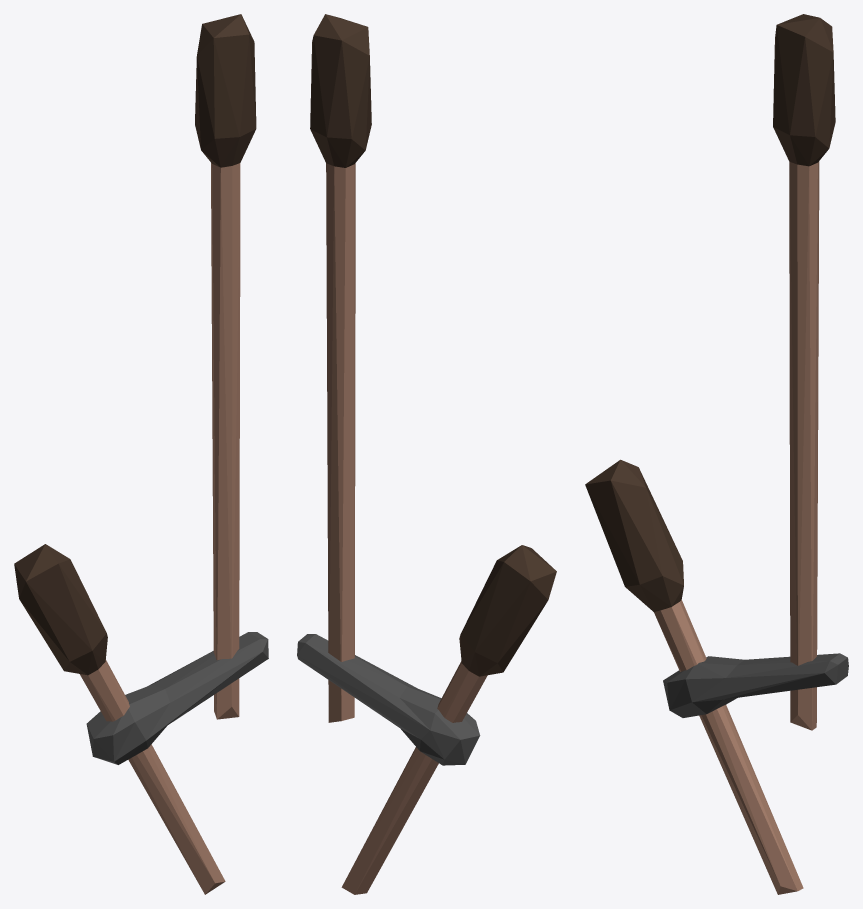
Rendered from Torches.fbx.
The picture shows the model from 3 angles, left to right: view 1: azimuth 30°, elevation 25°; view 2: azimuth 150°, elevation 25°; view 3: azimuth 330°, elevation 25°; orthographic projection.
Visible parts, largest first — view 1: Torch_long, Torch_angled; view 2: Torch_long, Torch_angled; view 3: Torch_long, Torch_angled.
Boxes of the visible parts, left/top/right/bottom form: Torch_long: left=195, top=14, right=256, bottom=719; Torch_angled: left=14, top=544, right=268, bottom=894; Torch_long: left=310, top=14, right=371, bottom=722; Torch_angled: left=297, top=545, right=556, bottom=894; Torch_long: left=773, top=14, right=835, bottom=730; Torch_angled: left=585, top=459, right=848, bottom=894.
Size of the model in its own units: 0.6839 by 2.31 by 0.1506.
